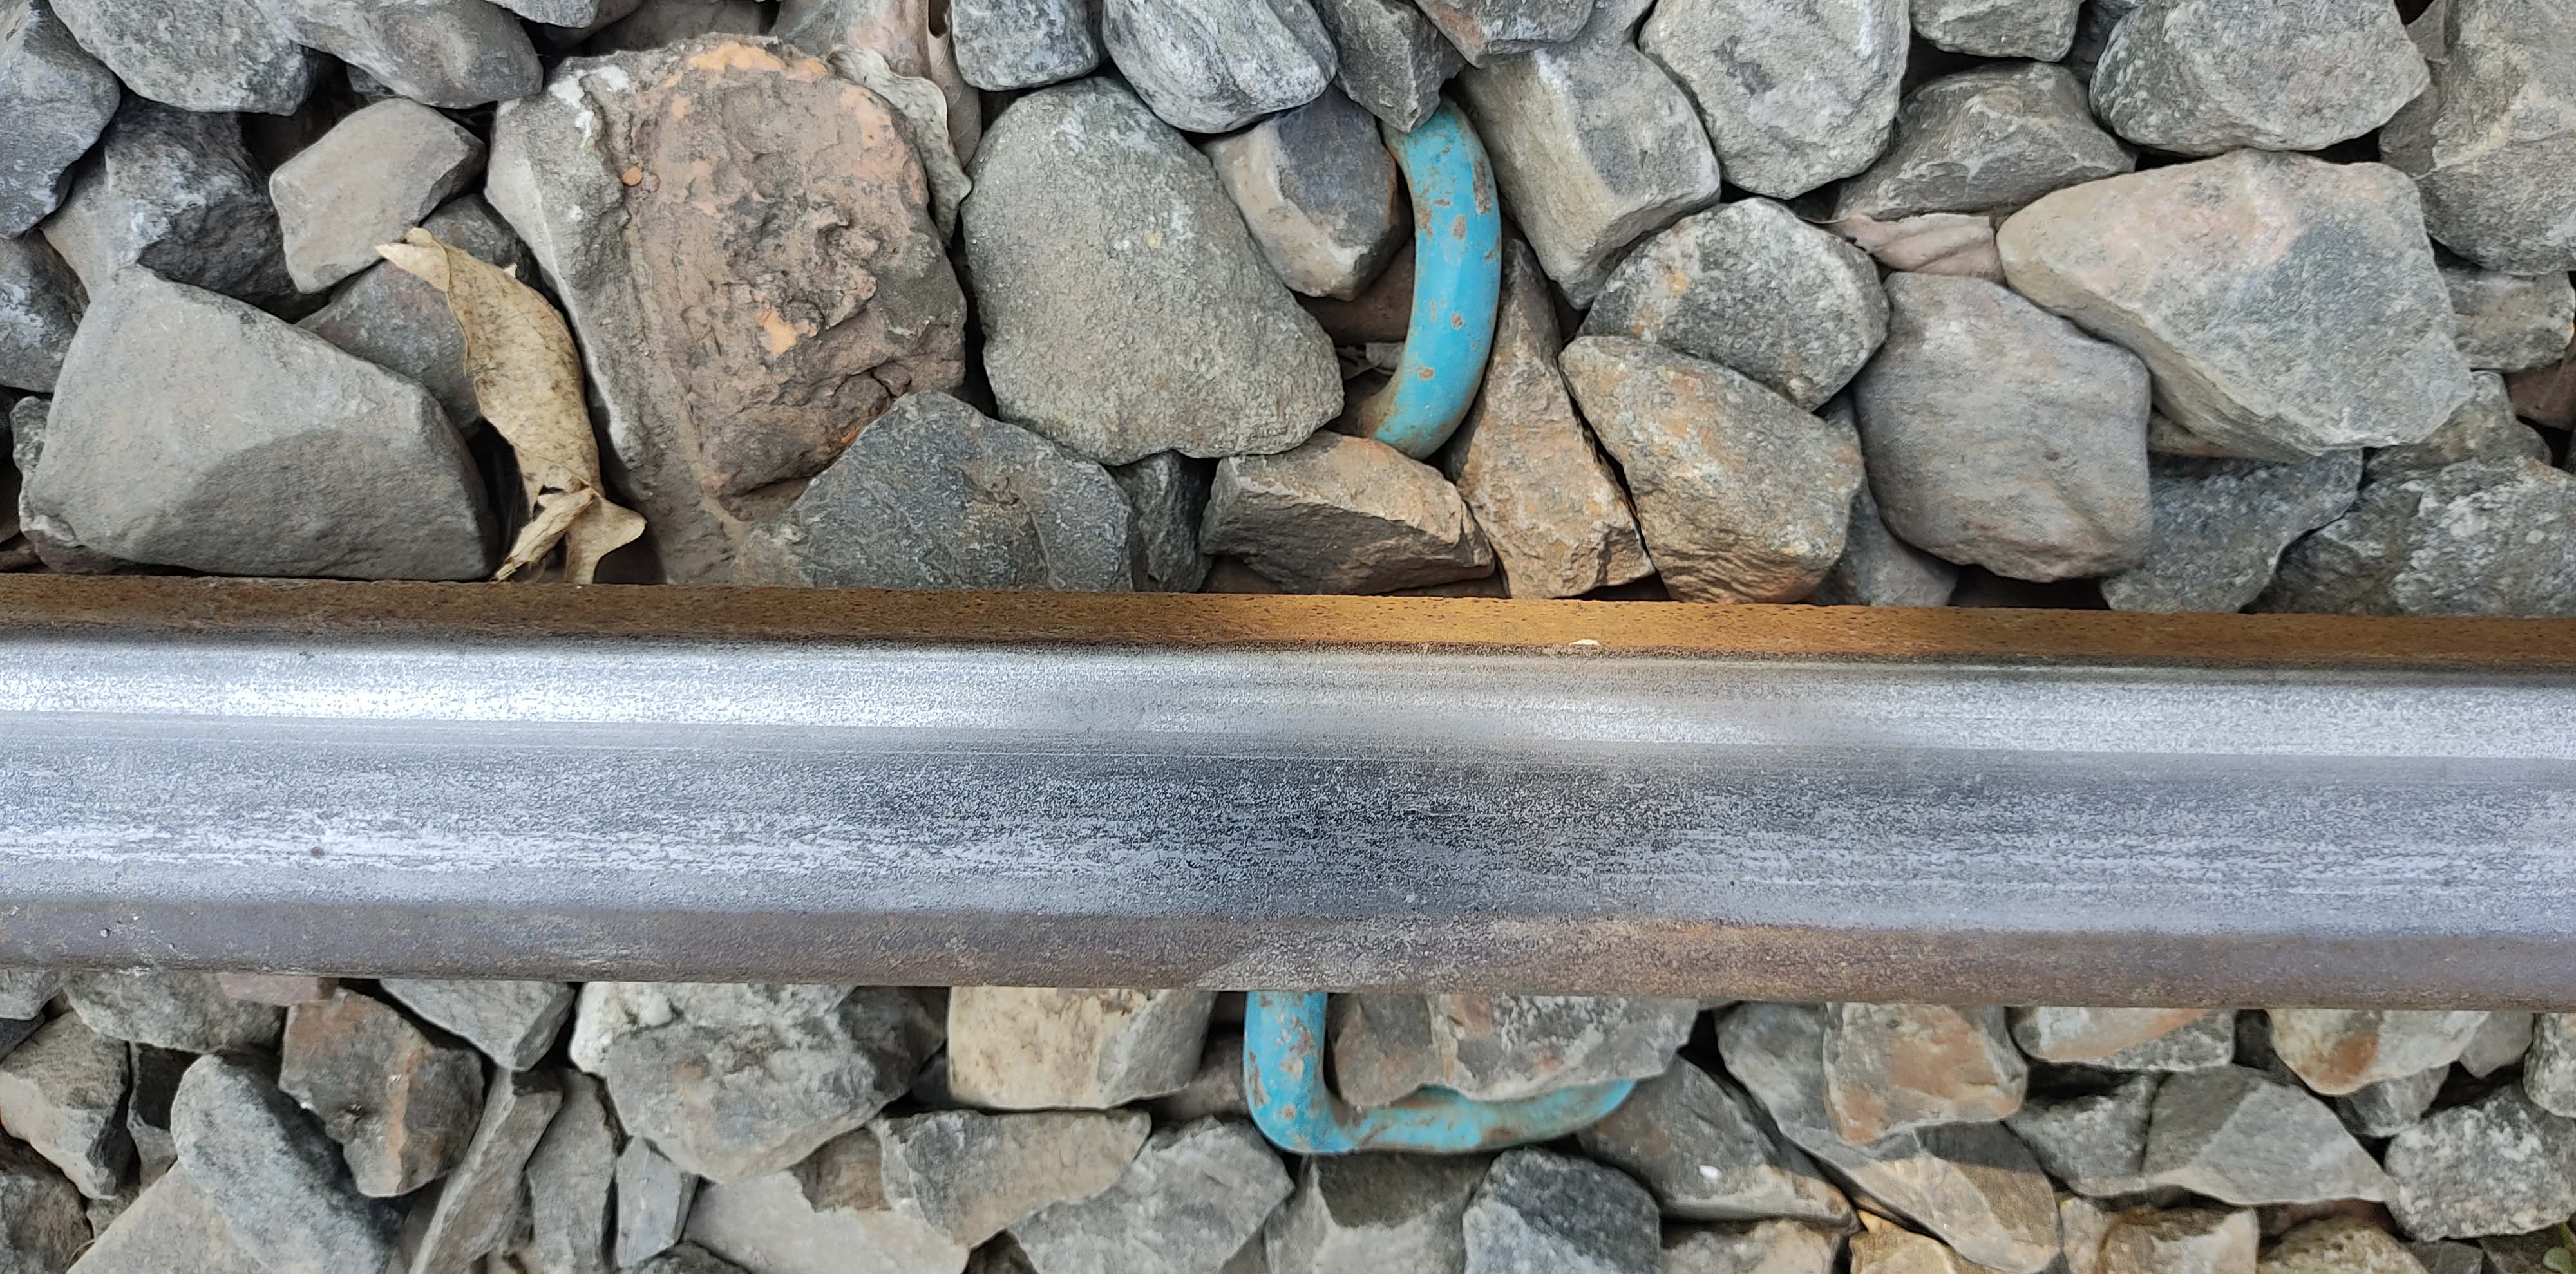error1: (1193, 59, 1592, 578), (1227, 946, 1709, 1205)
